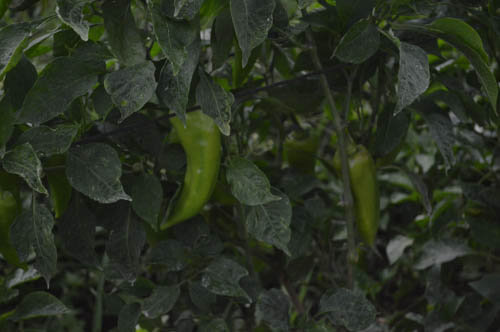ChiliPepper: (155, 112, 221, 238), (329, 142, 384, 247), (280, 124, 317, 182), (41, 156, 71, 222)
